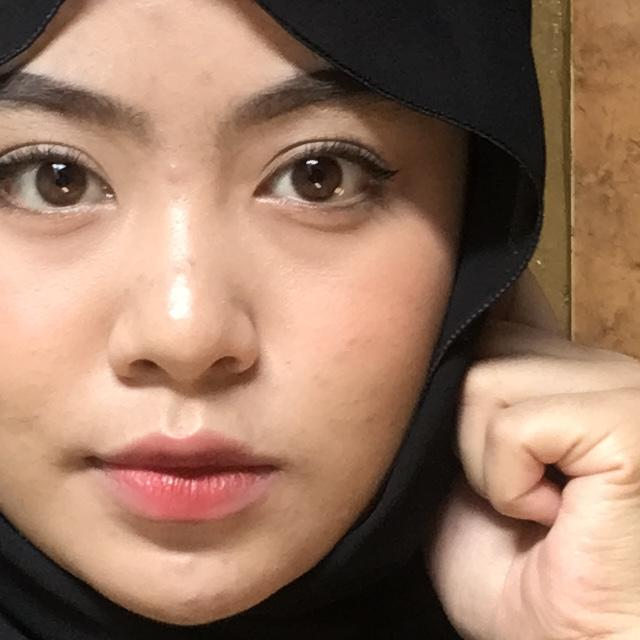ibu: (400, 286, 640, 640)
